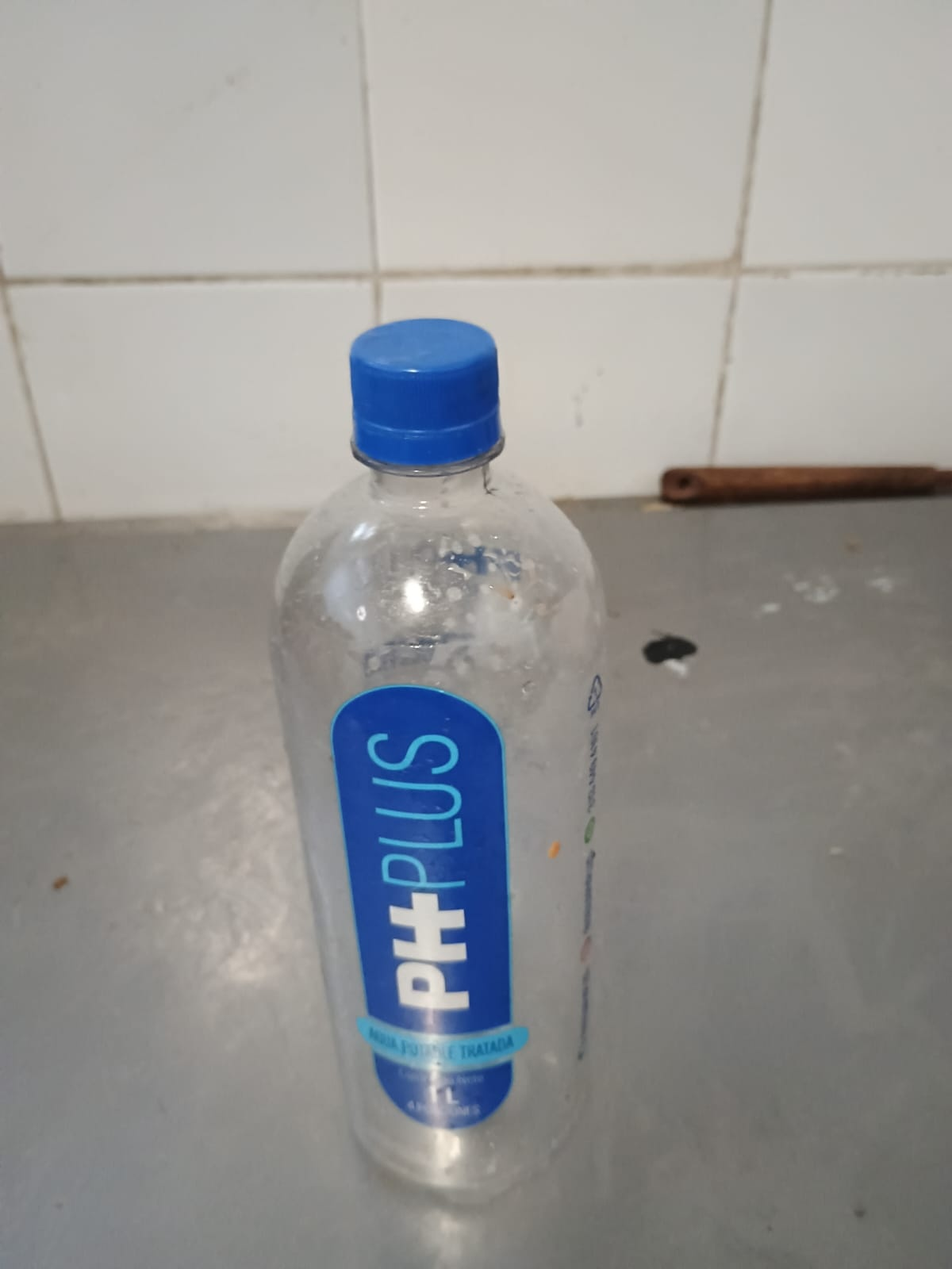Plastico: (271, 320, 609, 1205)
